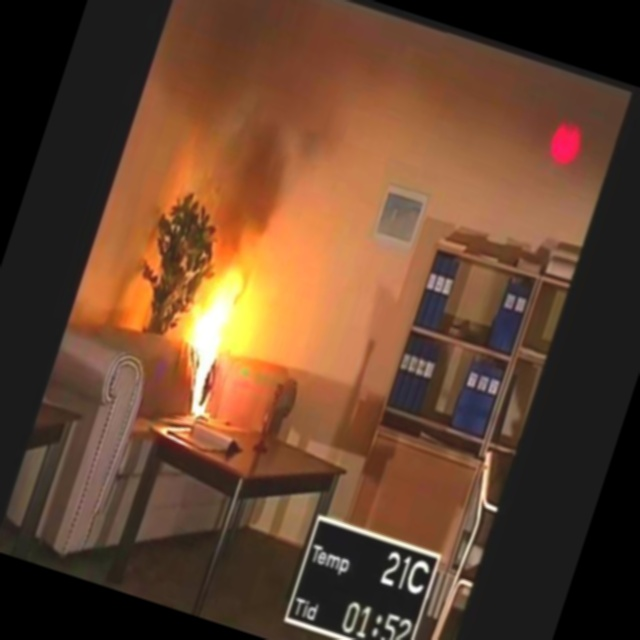fire: (166, 267, 255, 400)
